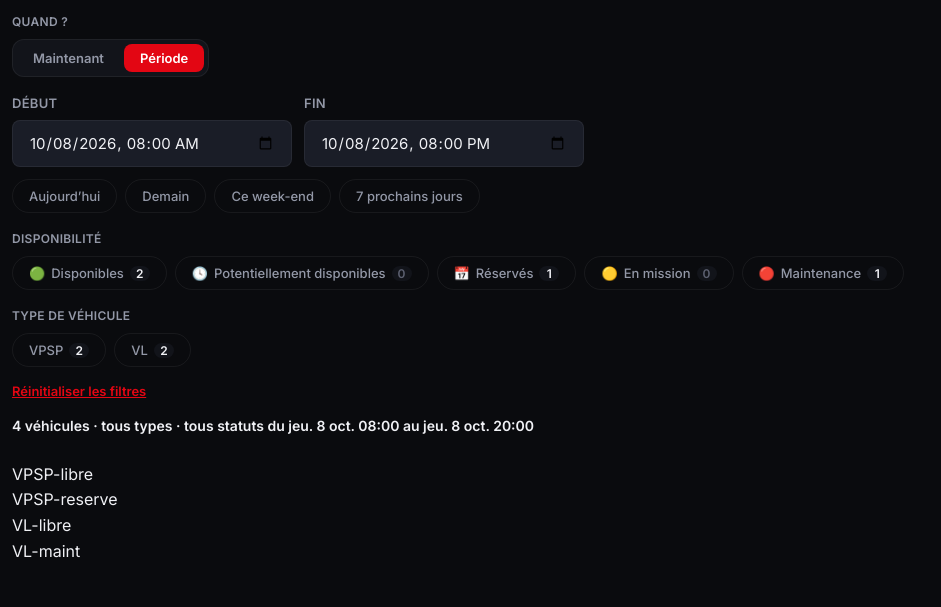
Test case: DtFilterPanel › fin ≤ début : message relié au champ Fin, compteurs « — »
Replace the text in the field labelled "Fin" with "2026-10-08T07:00". click: (444, 144)
box: [304,120,584,167]
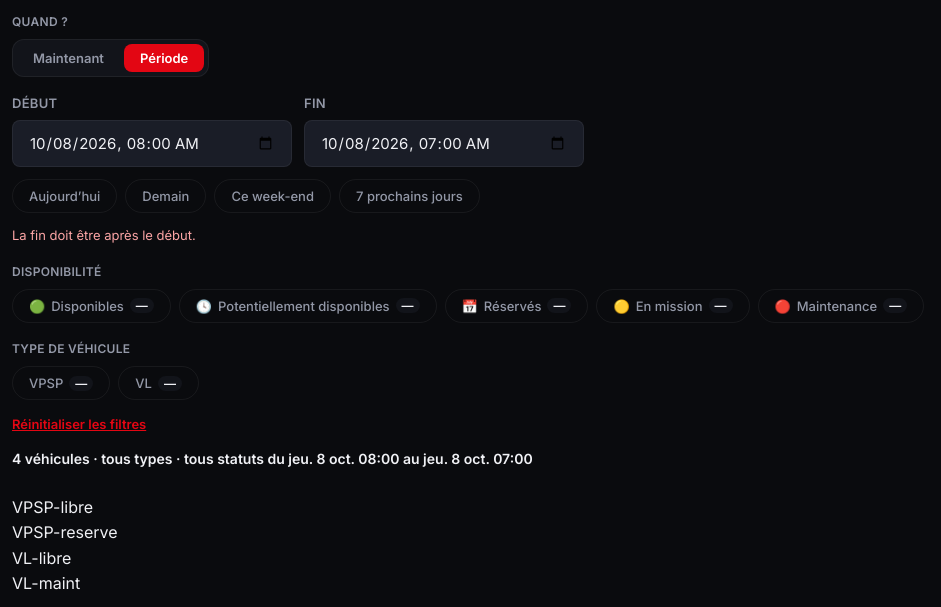
Result: the message reads "La fin doit être après le début." at [12,227,196,243]
Result: the button with aria-label "VPSP, nombre inconnu" shows "—" at [12,366,110,400]
